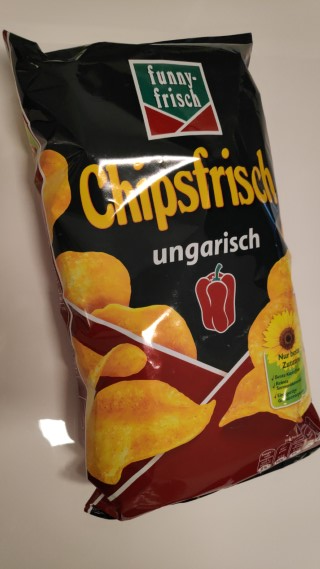chipsfrisch: (1, 26, 319, 524)
